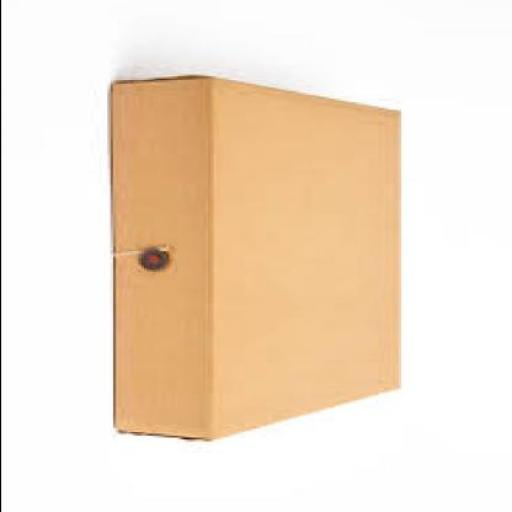cardboard: (110, 76, 402, 443)
